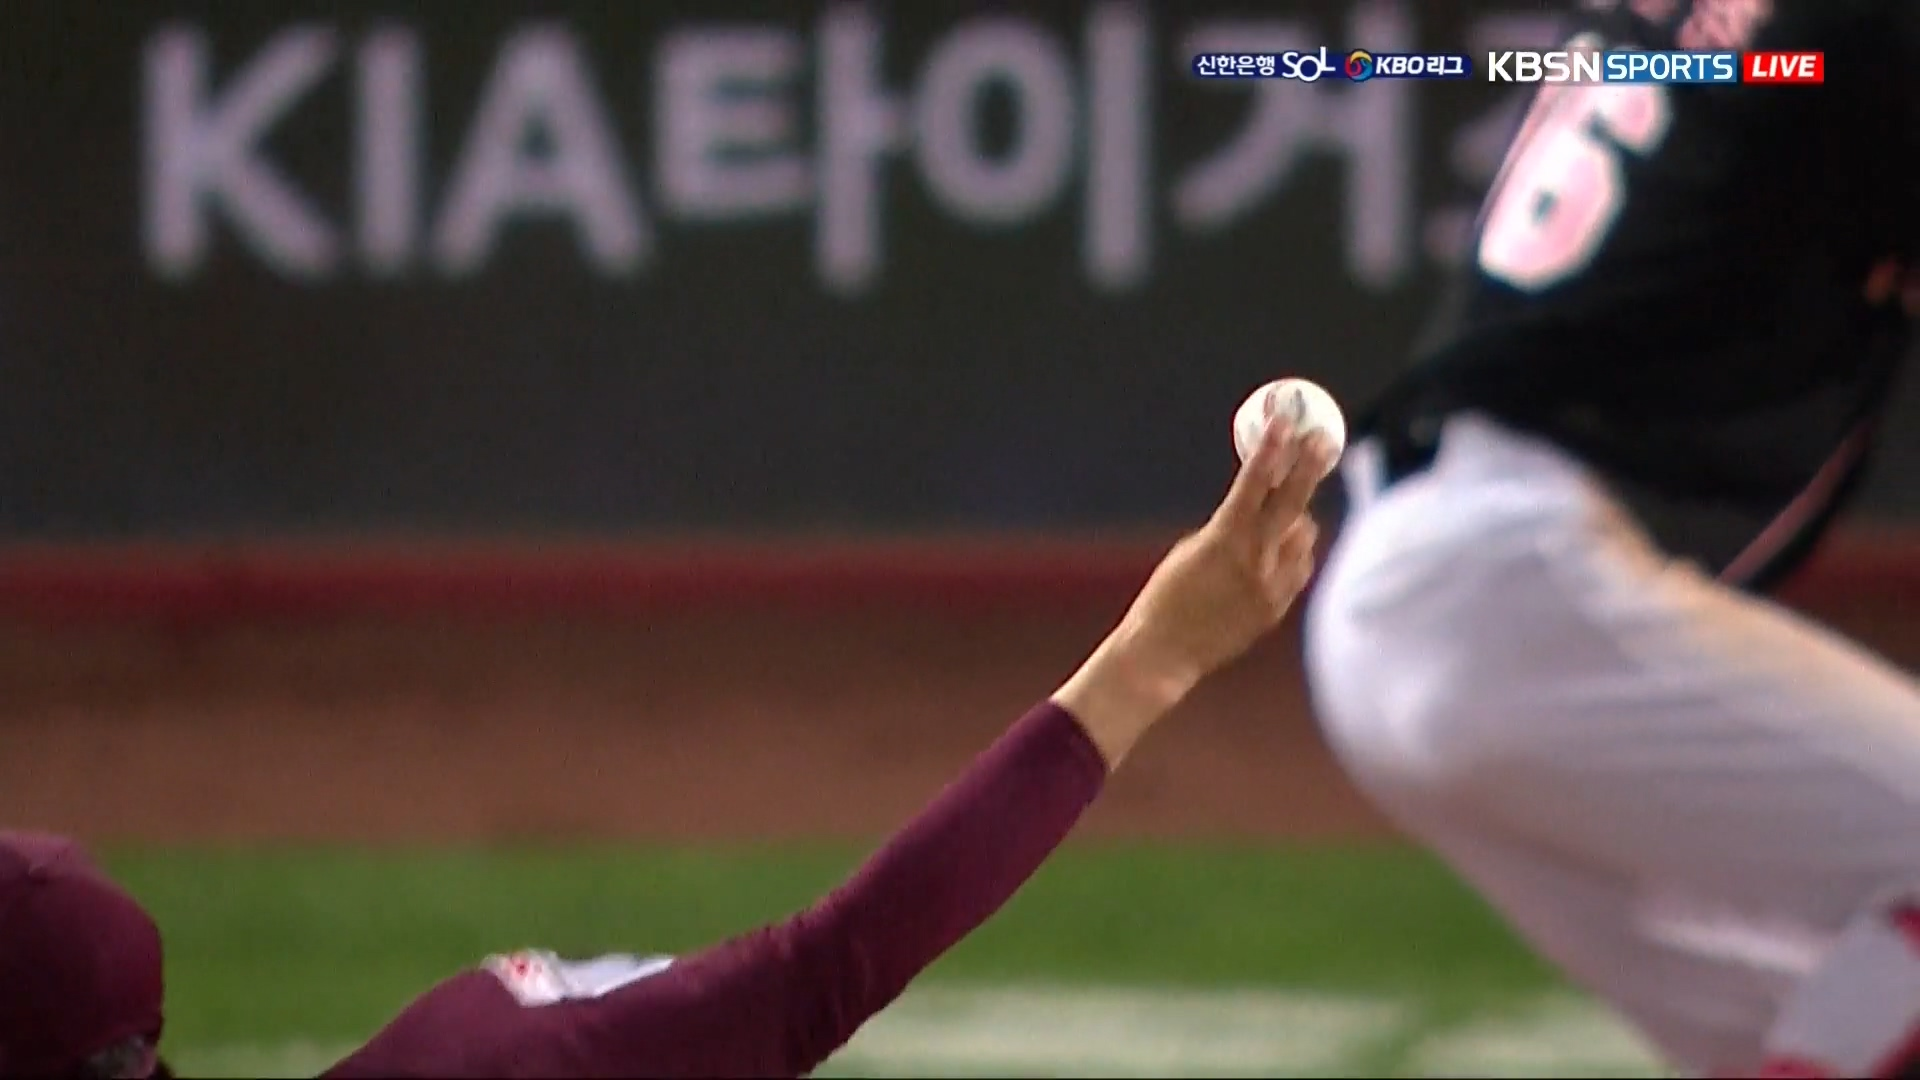zoomin_hand: (822, 361, 1349, 1014)
